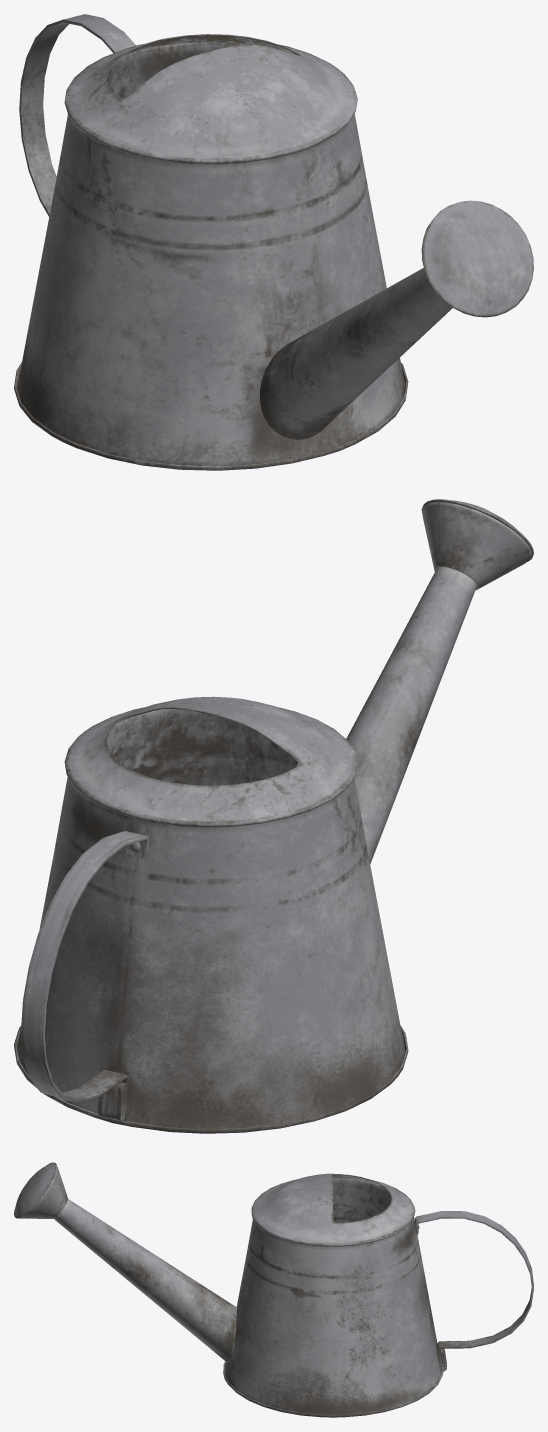
Rendered from watering_can_metal_01_1k.gltf.
3 views of the same model, one above another, from view 1: azimuth 30°, elevation 25°; view 2: azimuth 150°, elevation 25°; view 3: azimuth 270°, elevation 25° (orthographic). The views are drawn at different scales.
Visible parts, largest first — view 1: watering_can_metal_01; view 2: watering_can_metal_01; view 3: watering_can_metal_01.
Boxes of the visible parts, x1,y1,x2,y2 form: watering_can_metal_01: (14, 14, 533, 470); watering_can_metal_01: (14, 499, 533, 1133); watering_can_metal_01: (14, 1162, 533, 1417).
Size of the model in its own units: 0.191 by 0.1968 by 0.4523.
Materials: 1 (1 with a texture image).
